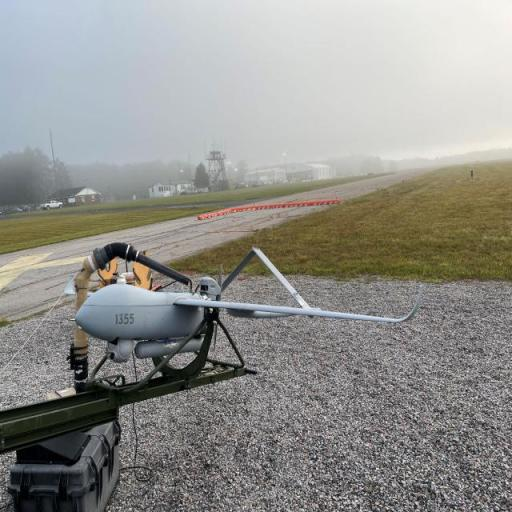uav: (76, 247, 430, 378)
